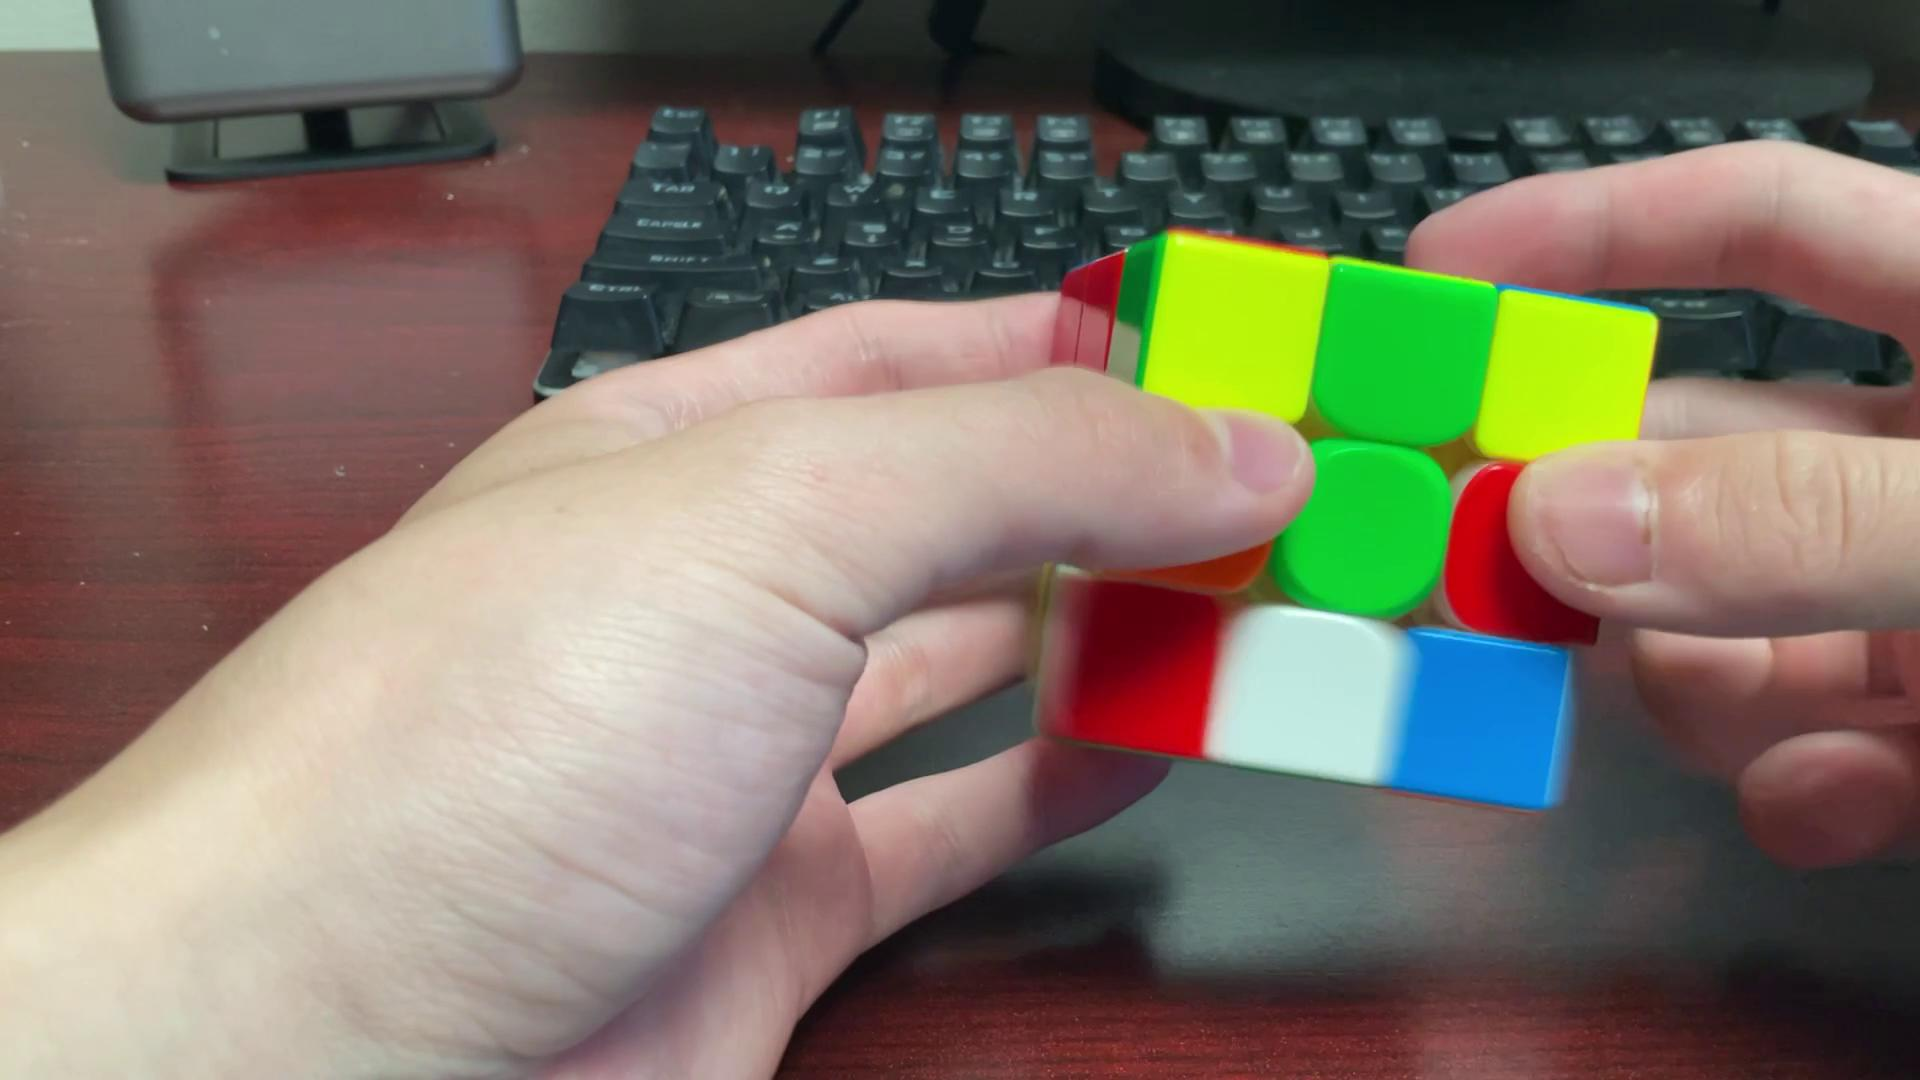Rubiks-Cube: (1034, 219, 1672, 822)
